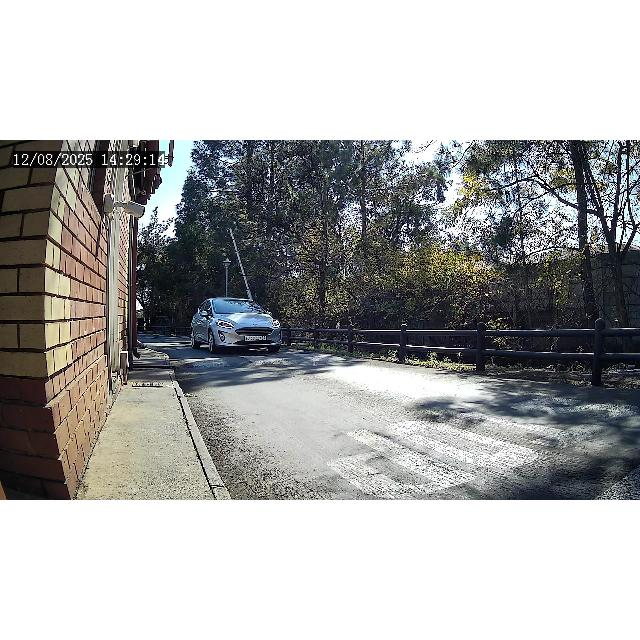car: (190, 296, 282, 354)
plate: (242, 334, 268, 342)
